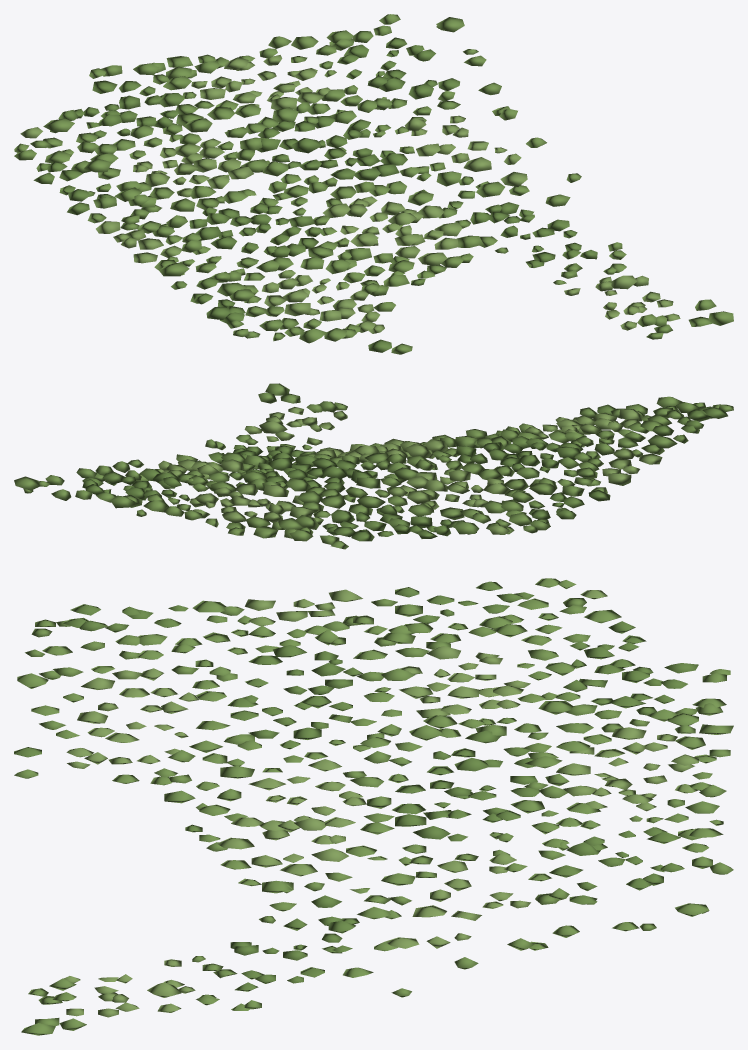
File: canopy-1--1--3.glb
3 views of the same model, one above another, from view 1: azimuth 30°, elevation 25°; view 2: azimuth 150°, elevation 25°; view 3: azimuth 270°, elevation 25° (orthographic). The views are drawn at different scales.
Bounding box in the file's own units: 518 × 135 × 515.
Materials: 1 (1 with a texture image).
